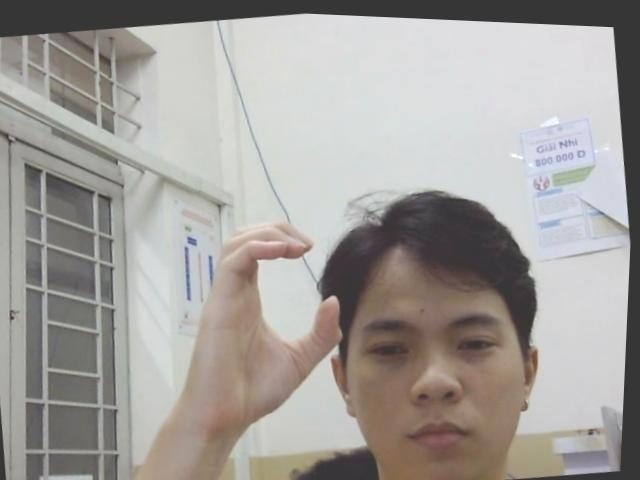C: (169, 206, 359, 431)
